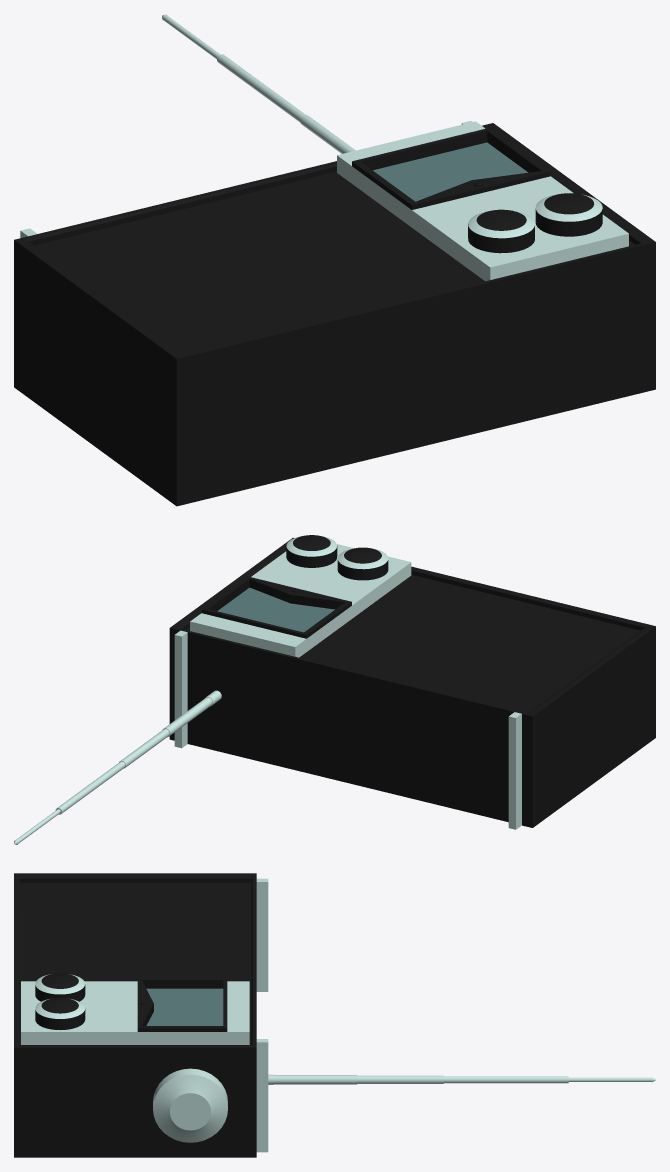
The model's file is Old_radio_V2.fbx.
The picture shows the model from 3 angles, top to bottom: view 1: azimuth 30°, elevation 25°; view 2: azimuth 150°, elevation 25°; view 3: azimuth 270°, elevation 25°; orthographic projection. The views are drawn at different scales.
Parts seen in each view (by area): view 1: Cube; view 2: Cube; view 3: Cube.
Boxes of the visible parts, left/top/right/bottom form: Cube: left=14, top=14, right=655, bottom=506; Cube: left=14, top=535, right=655, bottom=844; Cube: left=14, top=873, right=655, bottom=1157.
Bounding box in the file's own units: 358 × 124 × 529.
